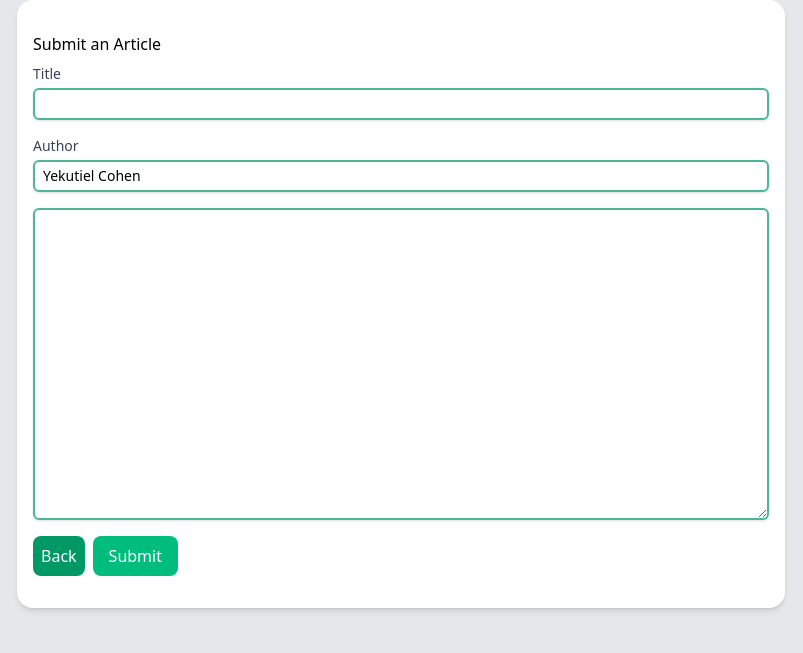
Scenario: AddArticle › validation › requires article text
In the field labelled "Title": (401, 104) top-left (33, 88), bottom-right (769, 120), type "A good title"
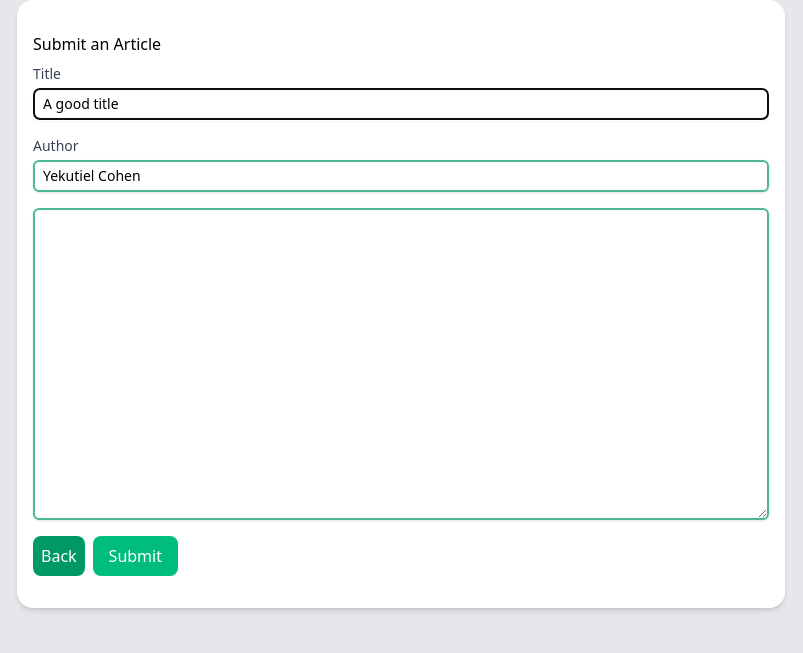
Click the button "Submit": (135, 556) top-left (93, 536), bottom-right (178, 576)
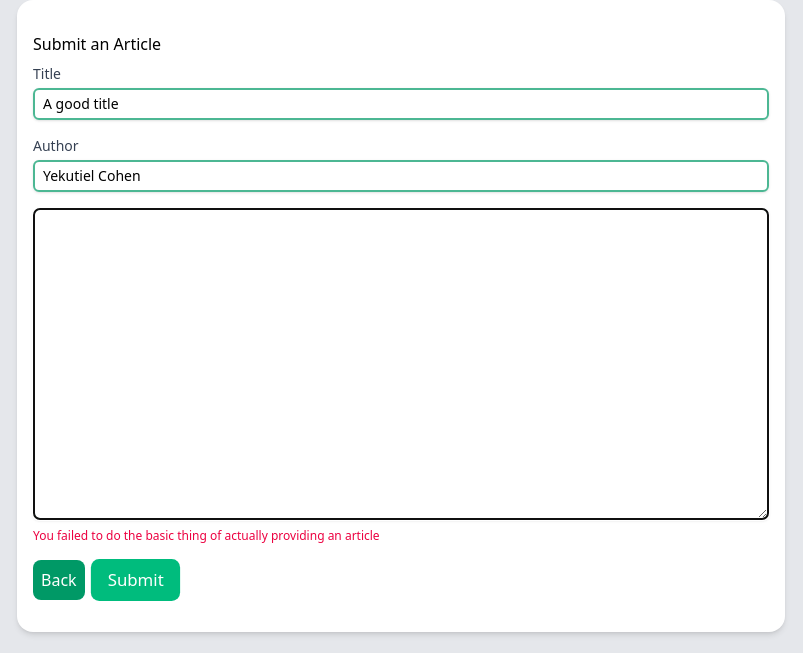
expect the text "actually providing an article" is shown: met, box top-left (33, 527), bottom-right (380, 544)
